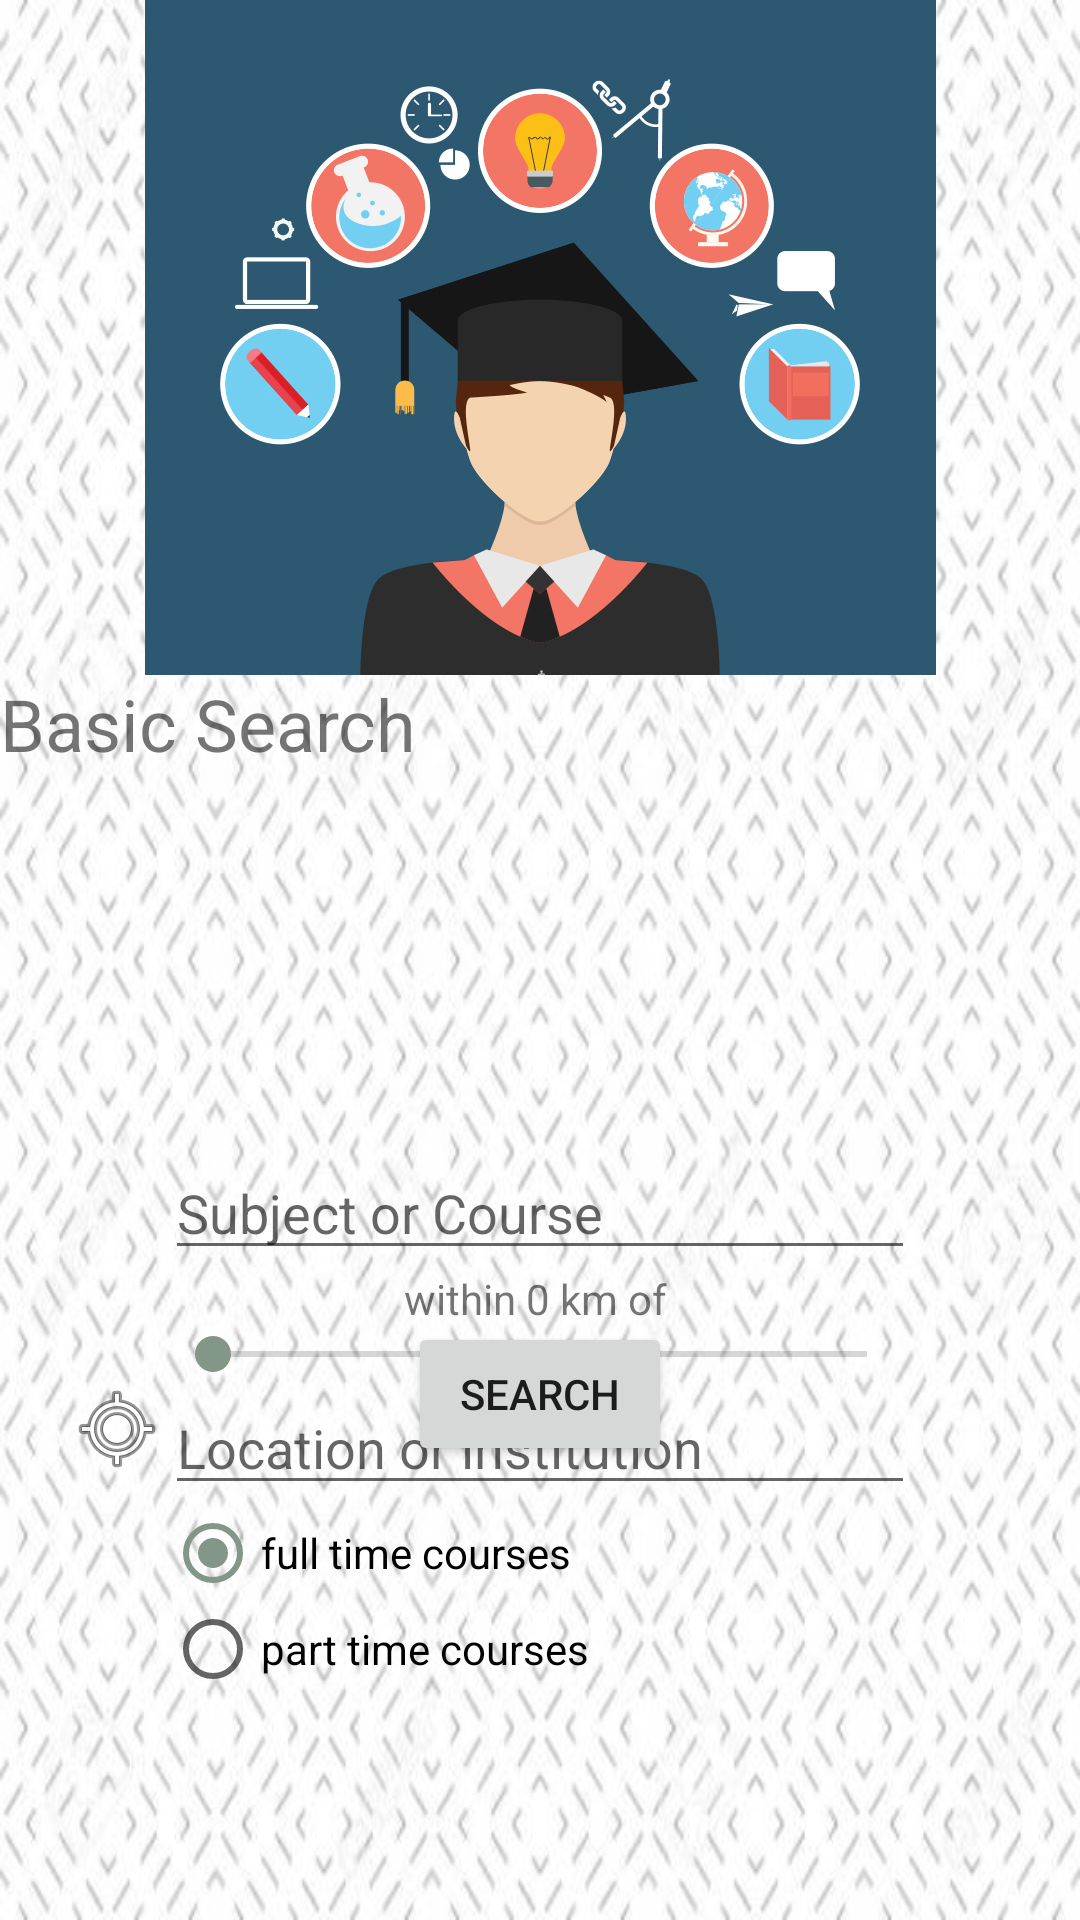

Point at icon controls on the screen. Image size 1080 x 1920, points as (x,y).
mylocation: (122,1429)
